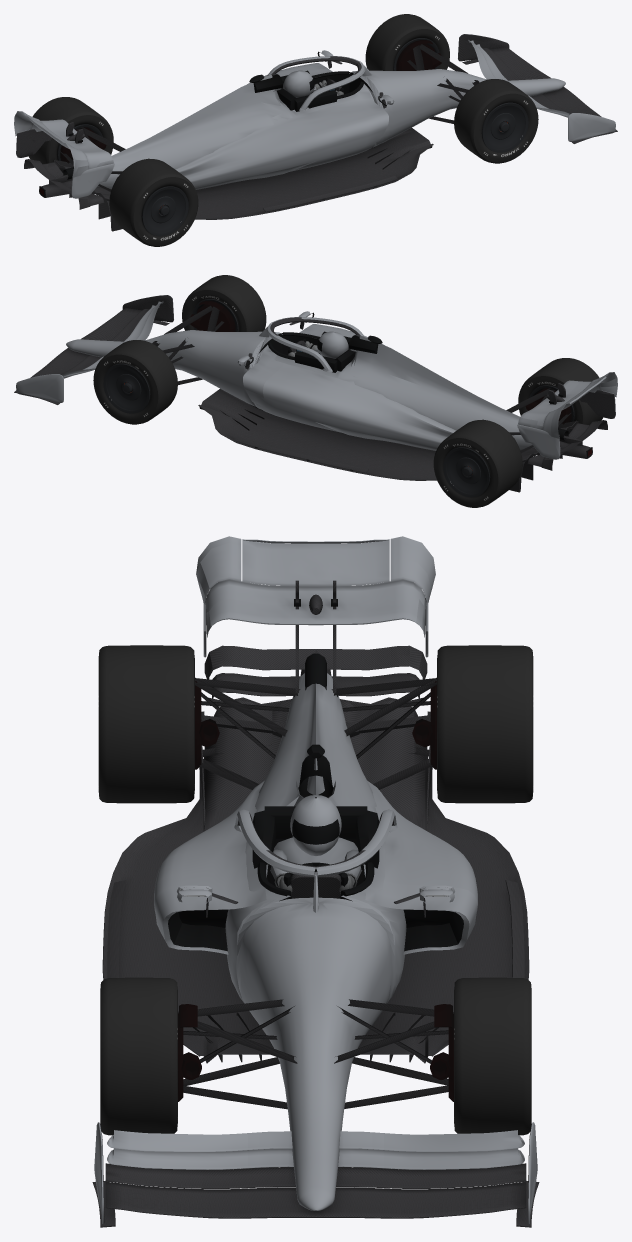
Rendered from car_mobile.glb.
3 renders of one model, top to bottom at view 1: azimuth 30°, elevation 25°; view 2: azimuth 150°, elevation 25°; view 3: azimuth 270°, elevation 25°, orthographic. The views are drawn at different scales.
Parts seen in each view (by area): view 1: body, wheel_RR, wheel_FR, wheel_FL, wheel_RL, suspension_links, upright_FL, helmet; view 2: body, wheel_RL, wheel_FL, wheel_FR, wheel_RR, suspension_links, upright_FR, helmet; view 3: body, wheel_RL, wheel_RR, suspension_links, wheel_FL, wheel_FR, drs_flap, helmet, steering_wheel, upright_FL, upright_FR, upright_RL (+1 smaller).
Boxes of the visible parts, x1,y1,x2,y2 form: body: (14, 34, 617, 231); wheel_RR: (109, 158, 198, 246); wheel_FR: (454, 79, 538, 163); wheel_FL: (365, 14, 449, 70); wheel_RL: (28, 97, 113, 164); suspension_links: (60, 44, 479, 191); upright_FL: (396, 40, 441, 70); helmet: (283, 70, 314, 97); body: (14, 295, 617, 492); wheel_RL: (433, 419, 522, 507); wheel_FL: (93, 340, 177, 424); wheel_FR: (182, 275, 266, 331); wheel_RR: (518, 358, 603, 425); suspension_links: (152, 305, 571, 452); upright_FR: (190, 301, 235, 331); helmet: (317, 331, 348, 358); body: (92, 536, 539, 1227); wheel_RL: (437, 645, 533, 803); wheel_RR: (98, 645, 194, 803); suspension_links: (178, 677, 453, 1109); wheel_FL: (454, 977, 531, 1135); wheel_FR: (100, 977, 177, 1135); drs_flap: (242, 539, 389, 585); helmet: (290, 795, 341, 855); steering_wheel: (274, 872, 357, 898); upright_FL: (430, 1004, 453, 1101); upright_FR: (178, 1004, 201, 1101); upright_RL: (412, 681, 436, 769).
Bounding box in the file's own units: 5.54 × 0.9789 × 2.04.
11 materials, 4 textured.
